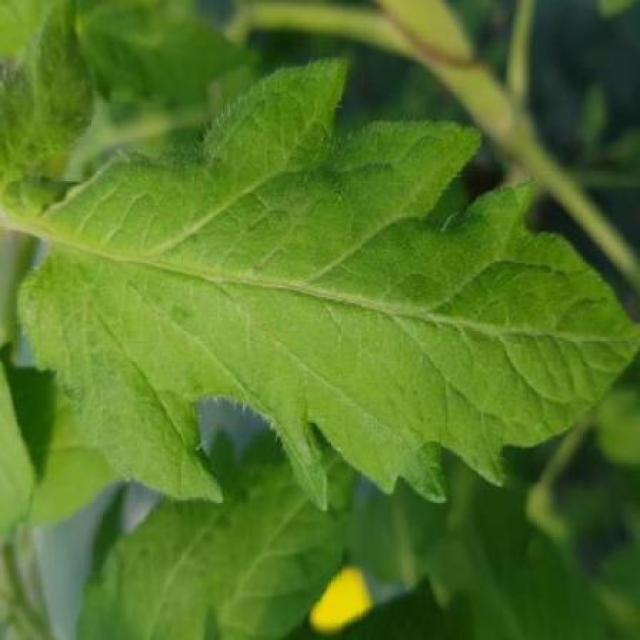Healthy: (20, 59, 640, 512)
